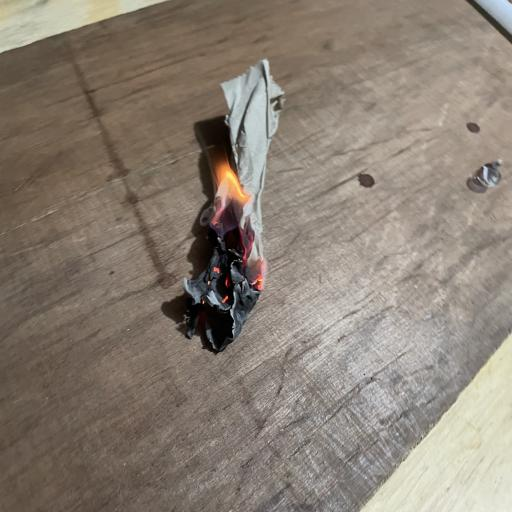fire: (201, 155, 267, 308)
